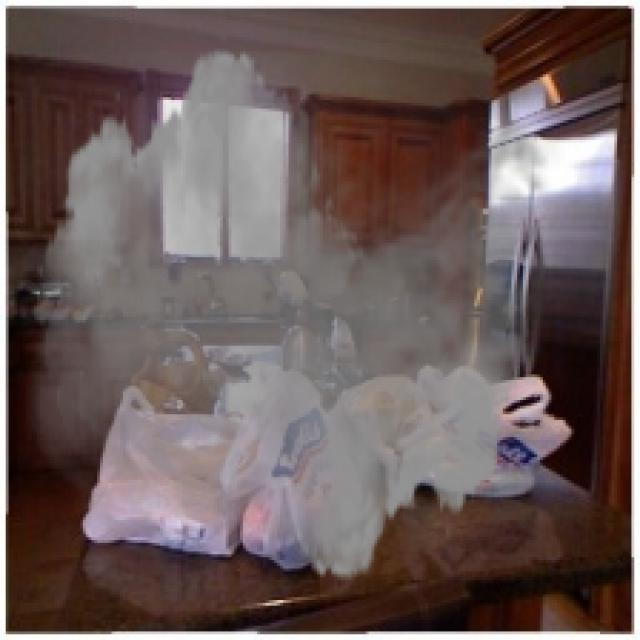Smoke: (14, 31, 566, 598)
